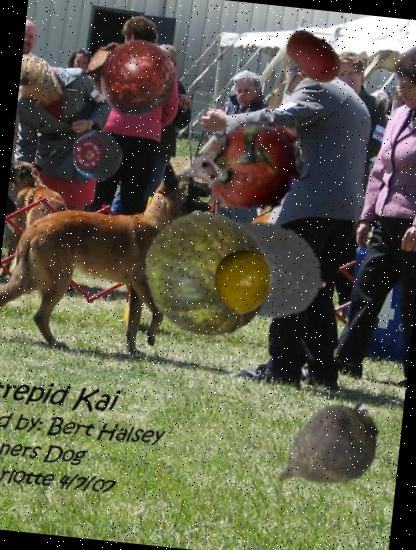Apple: (70, 128, 126, 184)
Avocado: (174, 185, 334, 345)
Beetroot: (257, 385, 391, 519)
Guava: (207, 246, 280, 319)
Mangostan: (82, 24, 183, 125)
Melon: (136, 201, 282, 348)
Nectarine: (280, 24, 348, 92)
Pitahaya: (173, 98, 314, 238)
